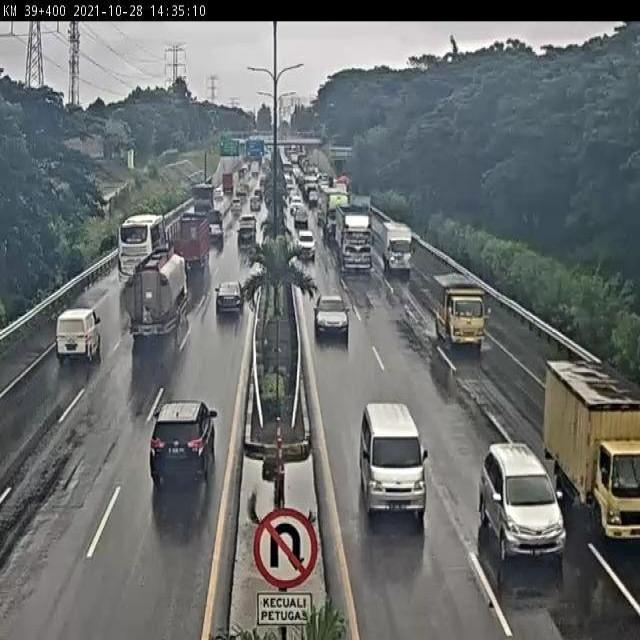big bus: (110, 202, 172, 290)
big truck: (120, 241, 193, 368), (163, 206, 220, 286), (329, 207, 385, 277)
car: (474, 420, 577, 575), (350, 391, 438, 529), (142, 380, 230, 509), (44, 299, 106, 368), (310, 286, 352, 346), (209, 272, 248, 328), (290, 222, 323, 258), (230, 221, 259, 256)
small truck: (540, 342, 640, 534), (427, 266, 489, 354), (375, 219, 420, 281)
